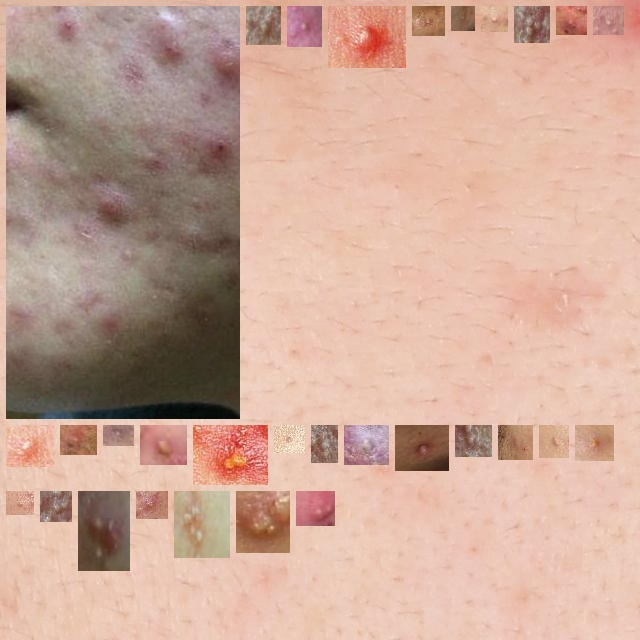pustule: (14, 14, 232, 429), (336, 14, 398, 60), (201, 433, 260, 477), (86, 499, 122, 563), (182, 499, 222, 550), (244, 499, 282, 545), (403, 433, 441, 463), (14, 433, 46, 459), (148, 433, 179, 457), (352, 433, 381, 457), (295, 14, 314, 39), (254, 14, 273, 37), (304, 499, 327, 518), (522, 14, 542, 35), (506, 433, 525, 452), (463, 433, 484, 449), (68, 433, 89, 447), (319, 433, 330, 455), (48, 499, 64, 514), (420, 14, 437, 28), (547, 433, 561, 450), (564, 14, 579, 27), (601, 14, 616, 27), (144, 499, 160, 511), (282, 433, 297, 445), (489, 14, 500, 24), (14, 499, 26, 507), (459, 14, 467, 23)
